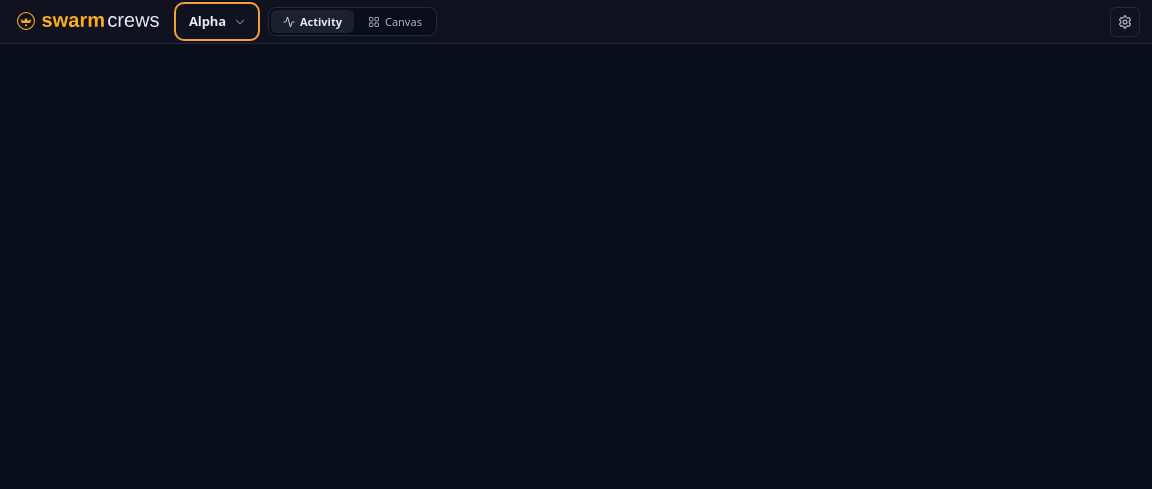
Test: project switcher counts-only activity › preserves last-known counts on errors and recovers on the next refresh
Click the button "Alpha" at (217, 22), box [178,6,256,37]
Wait 10000 ms
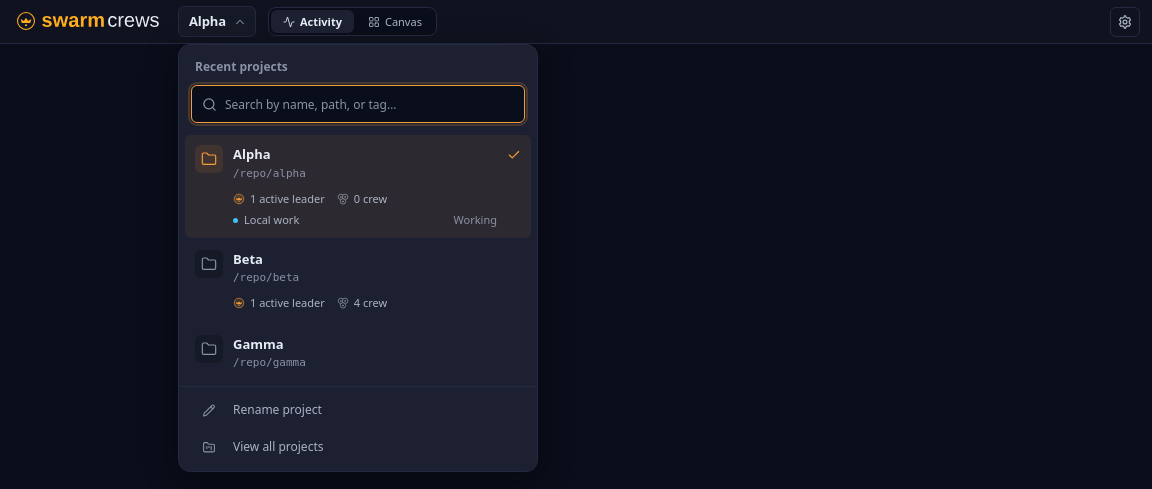
Now the 2nd text "1 active leader" is shown, box [233,295,325,311]
Now the text "4 crew" is shown, box [337,295,387,311]
